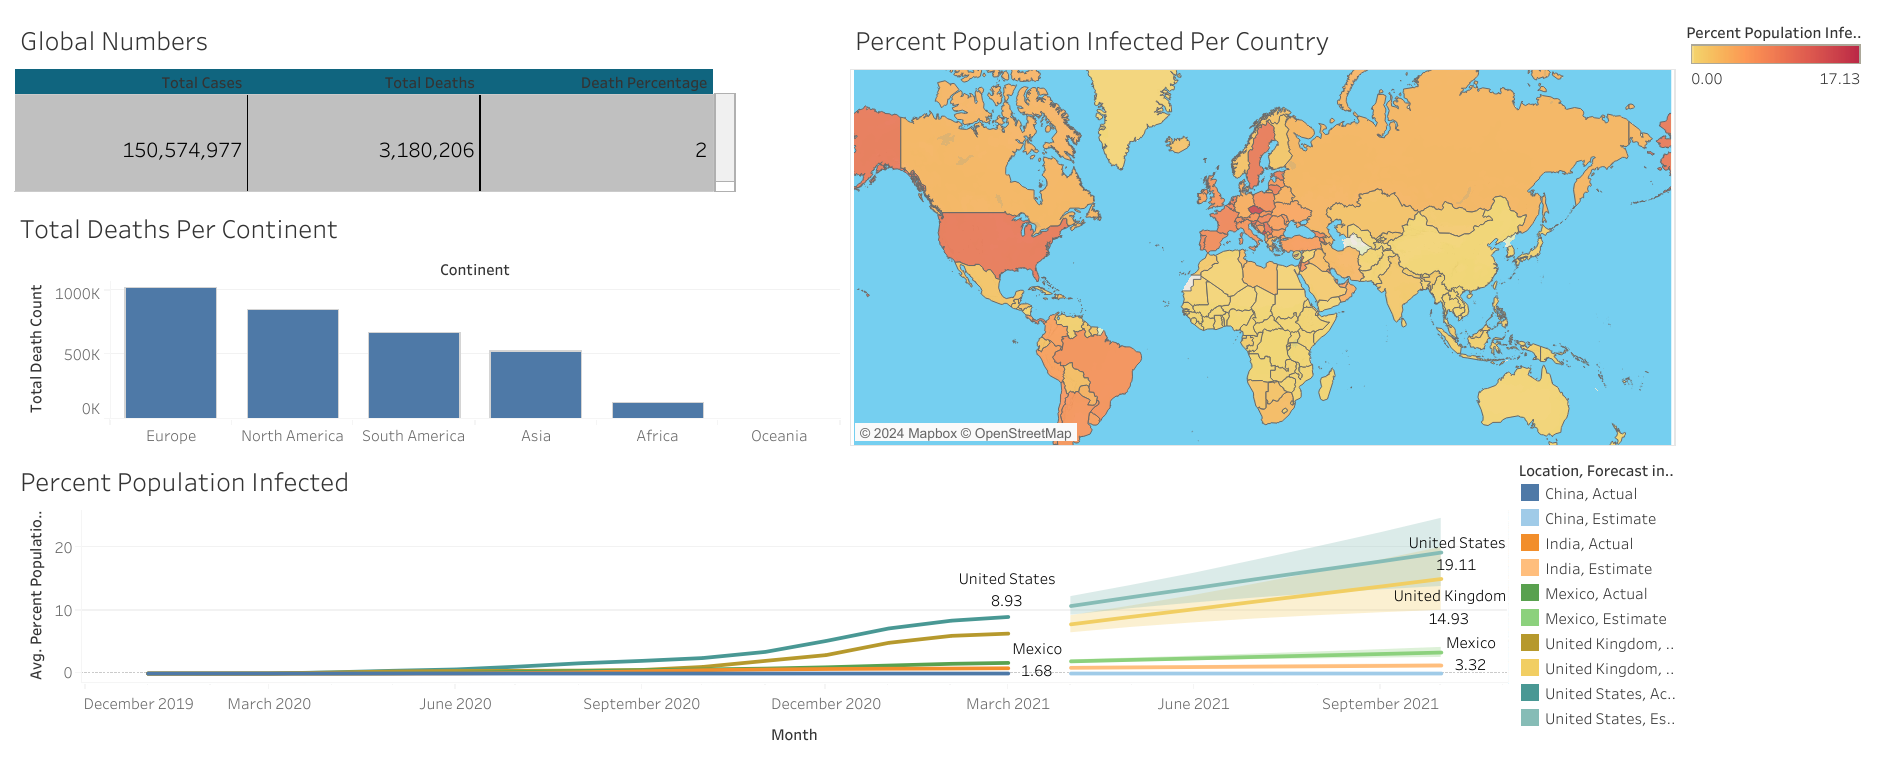

Layout of this report page (visuals, bound fields, positions):
{"tool":"tableau","page":{"name":"Dashboard 1","canvas":[1000,1000],"units":"permille","ordinal":0},"visuals":[{"type":"worksheet","title":"Sheet 1","mark":"Automatic","box":[4.8,9.3,449.3,245.3]},{"type":"worksheet","title":"Sheet 3","mark":"Automatic","box":[454.1,9.3,449.3,578.4]},{"type":"legend","title":"Sheet 3","param":"[federated.1u6pgzk0rhh873144wigi0cf6ax3].[sum:PercentPopulationInfected:qk]","box":[903.4,9.3,91.7,84.8]},{"type":"worksheet","title":"Sheet 2","mark":"Automatic","rows":["TotalDeathCount"],"cols":["location"],"box":[4.8,254.6,449.3,333.1]},{"type":"worksheet","title":"Sheet 4","mark":"Automatic","rows":["PercentPopulationInfected"],"cols":["date"],"box":[4.8,587.7,808,403]},{"type":"legend","title":"Sheet 4","param":"[federated.0fv2uox0hbhi61182v4641vh426j].[none:Location:nk]\n[federated.0fv2uox0h","box":[812.8,587.7,90.6,403]}]}

Visuals, with their boxes on the dashboard's canvas, which has no fixed pixel size, in thousandths of its width and height (x1, y1, x2, y2). These are canvas units, not pixel positions in the 1880x768 screenshot, which may show the page scaled, cropped or inside an application window:
"Sheet 1" worksheet: 5,9,454,255
"Sheet 3" worksheet: 454,9,903,588
"Sheet 3" legend: 903,9,995,94
"Sheet 2" worksheet: 5,255,454,588
"Sheet 4" worksheet: 5,588,813,991
"Sheet 4" legend: 813,588,903,991
